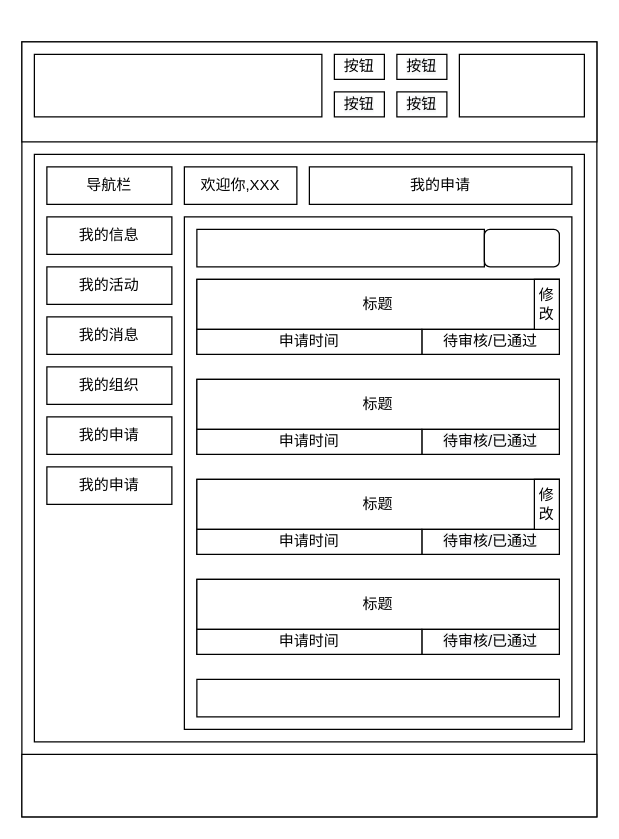
This 619x839 diagram has some shape labels left out. Here are the shapes that lost their labels. From the top down, the centre of each, then its label:
At pixel 177 85: "网站标题（文字+图片）".
At pixel 521 85: "当前登录学生信息显示（跳转主页）".
At pixel 521 247: "搜索".
At pixel 377 697: "分页页码".
At pixel 309 785: "底部导航栏&联系发邮件".
